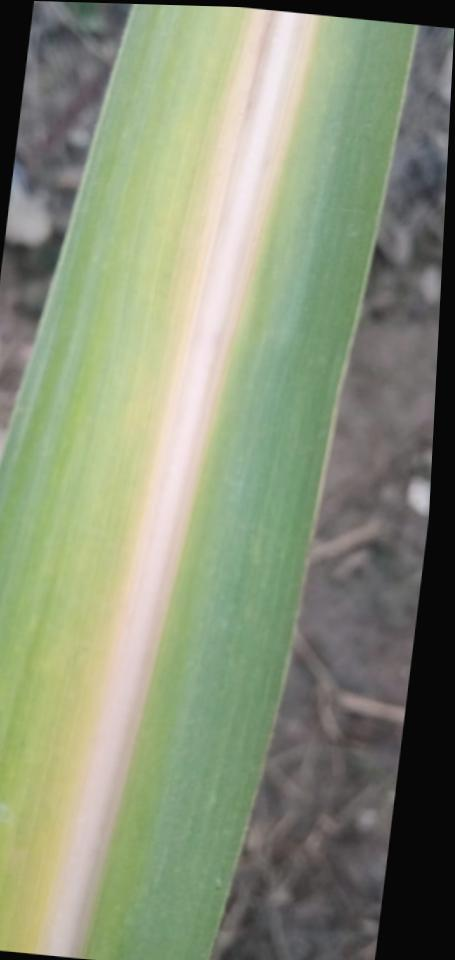Yellow: (0, 6, 331, 958)
